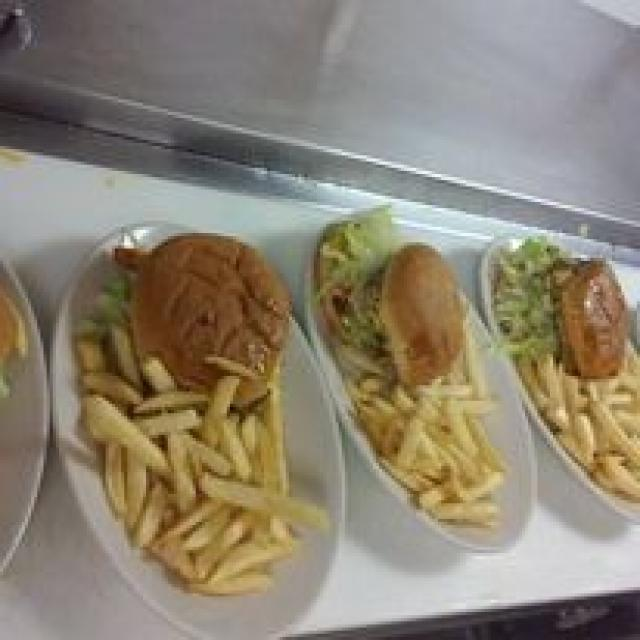Burger: (3, 205, 628, 370)
French Fries: (81, 358, 640, 570)
